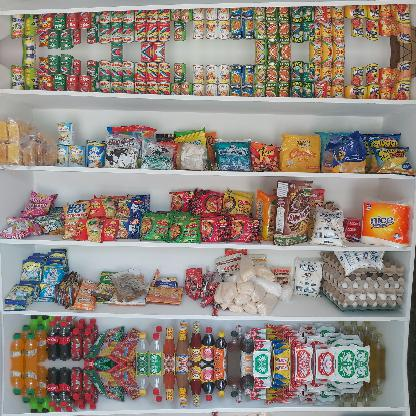Koko-Krunch: (272, 176, 314, 247)
Lady-s-Choice: (174, 140, 207, 172)
